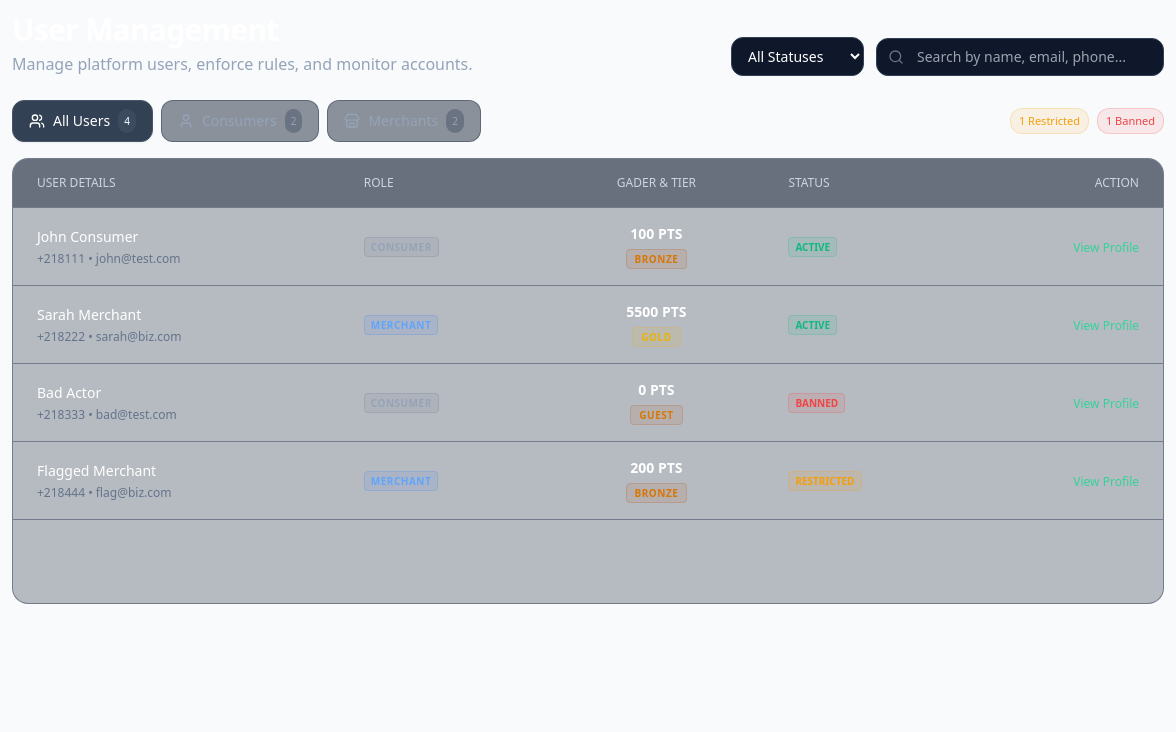
Test: Admin Users Page › search filters by user name
In the field with placeholder "Search by name, email, phone...": (1020, 56) [876,38,1164,76], type "John"
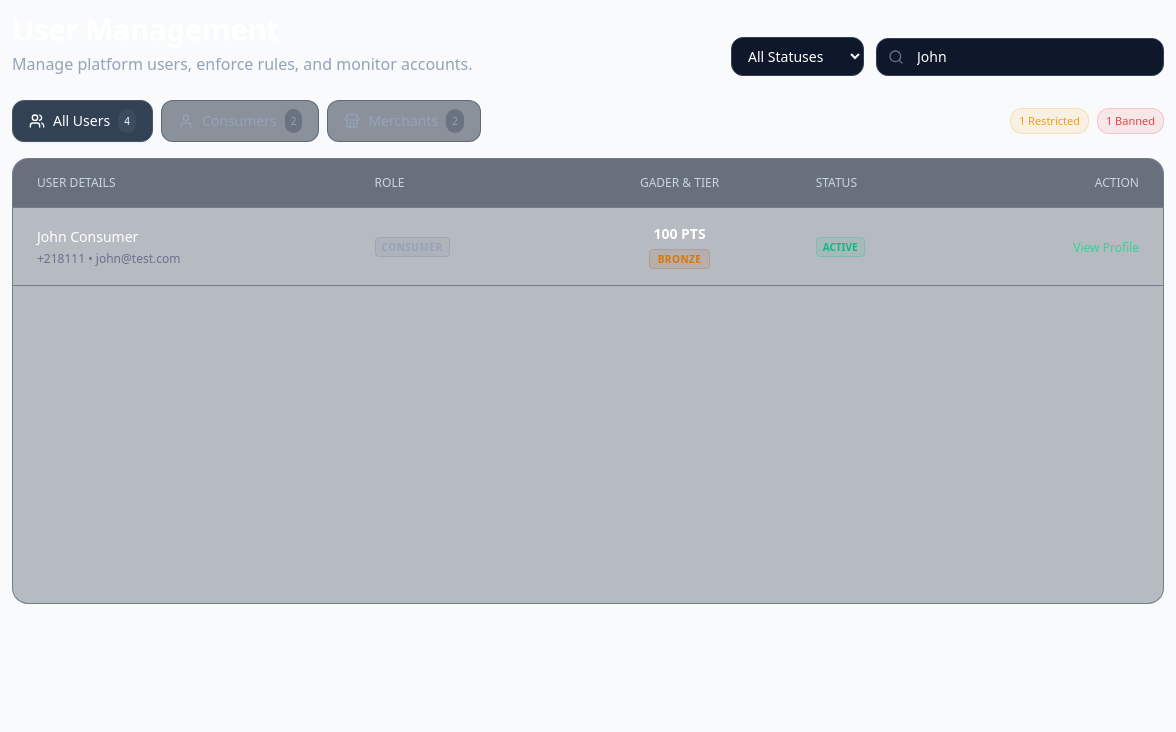
Check: the text "John Consumer" is shown, box [37,226,138,246]
Check: the text "Sarah Merchant" is gone
